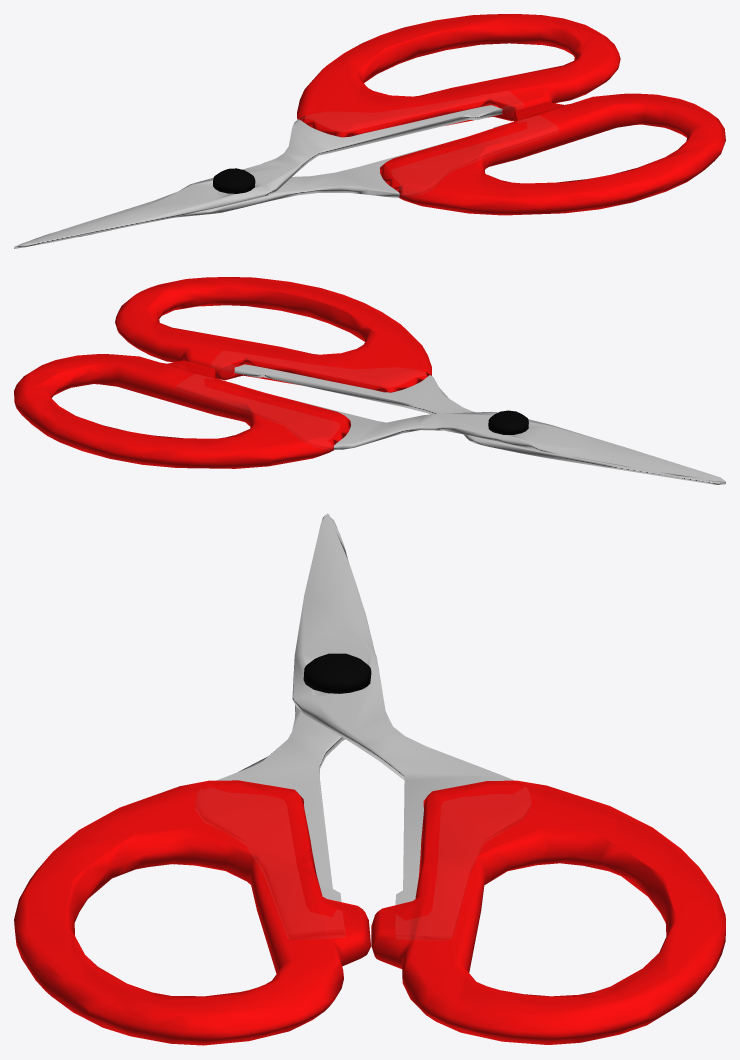
Rendered from Scissor.fbx.
3 renders of one model, top to bottom at view 1: azimuth 30°, elevation 25°; view 2: azimuth 150°, elevation 25°; view 3: azimuth 270°, elevation 25°, orthographic. The views are drawn at different scales.
Parts seen in each view (by area): view 1: Scissor1; view 2: Scissor1; view 3: Scissor1.
Part boxes in pixels (x1,y1,x2,y2): Scissor1: (14,14,725,248); Scissor1: (14,277,725,484); Scissor1: (14,513,725,1045).
Size of the model in its own units: 13.92 by 0.6399 by 8.12.
